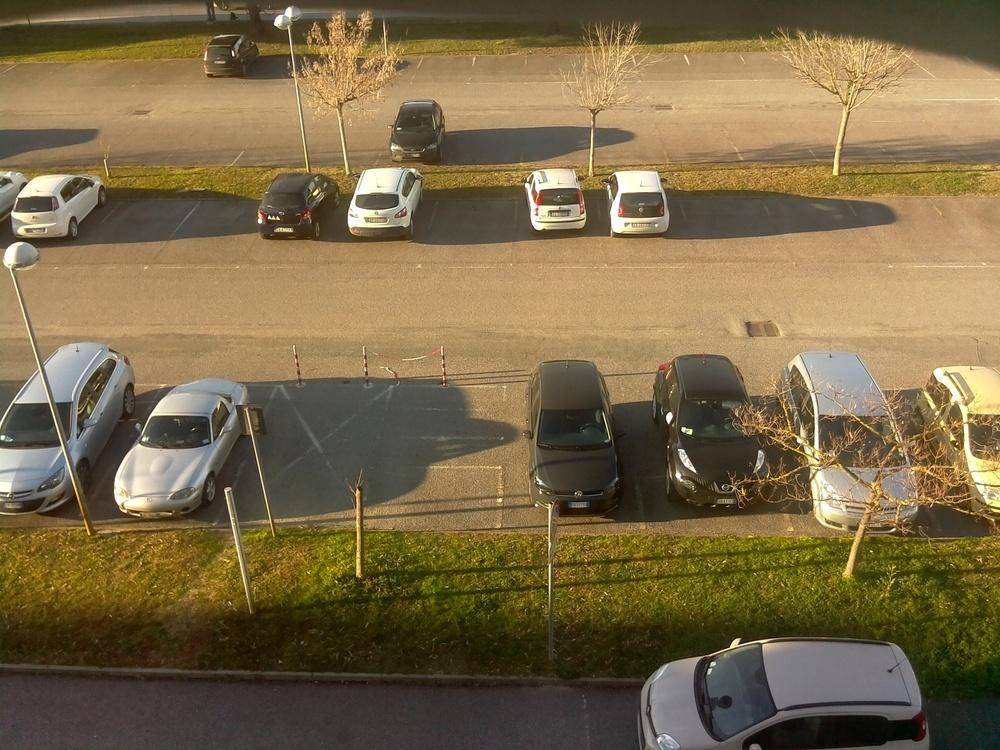empty: (643, 634, 946, 750), (647, 353, 797, 505), (4, 339, 130, 511), (110, 376, 255, 518), (523, 361, 635, 508), (779, 358, 916, 466), (5, 176, 113, 243), (337, 165, 424, 238), (256, 172, 341, 240), (602, 171, 683, 237), (519, 168, 598, 234), (378, 103, 451, 164), (203, 30, 256, 81)
occupied: (316, 667, 557, 744), (0, 661, 156, 737), (852, 182, 947, 259), (766, 187, 860, 247), (730, 123, 820, 166), (904, 33, 978, 84), (681, 40, 748, 96), (587, 127, 671, 170), (621, 47, 694, 96), (437, 194, 519, 237), (662, 124, 743, 166), (518, 123, 592, 168), (472, 40, 531, 96), (144, 36, 204, 91), (411, 47, 478, 94), (693, 196, 770, 236), (73, 52, 141, 97), (246, 126, 316, 168), (171, 130, 244, 168), (108, 129, 171, 170), (450, 129, 516, 165), (16, 51, 71, 94), (121, 205, 181, 235), (197, 206, 251, 236)
